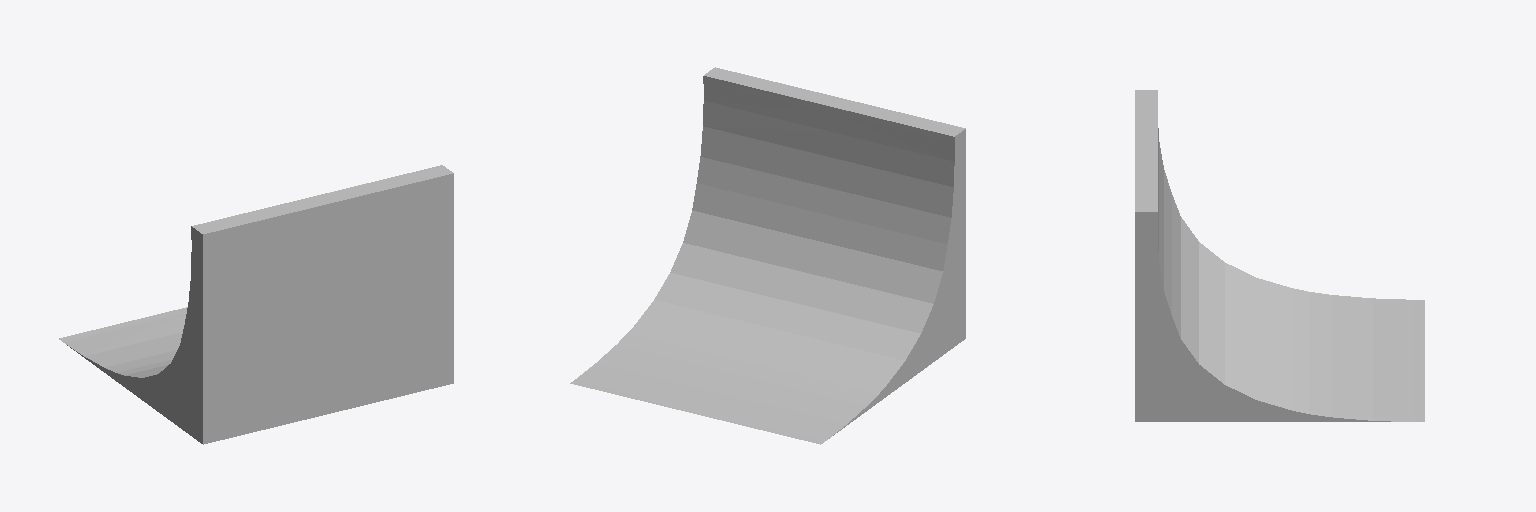
Rendered from Quater_LRG_HighVert_.obj.
3 renders of one model, left to right at view 1: azimuth 30°, elevation 25°; view 2: azimuth 150°, elevation 25°; view 3: azimuth 270°, elevation 25°, orthographic.
Visible parts, largest first — view 1: Quater_LRG_HighVert_; view 2: Quater_LRG_HighVert_; view 3: Quater_LRG_HighVert_.
Boxes of the visible parts, x1,y1,x2,y2 form: Quater_LRG_HighVert_: [59, 165, 453, 444]; Quater_LRG_HighVert_: [570, 67, 965, 444]; Quater_LRG_HighVert_: [1135, 90, 1424, 421].
Size of the model in its own units: 20 by 16 by 20.